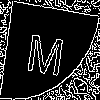M: (24, 25, 68, 77)
